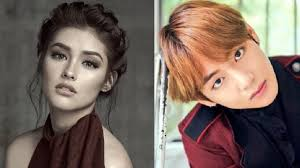no_mask: (160, 2, 285, 115), (37, 6, 123, 121)
